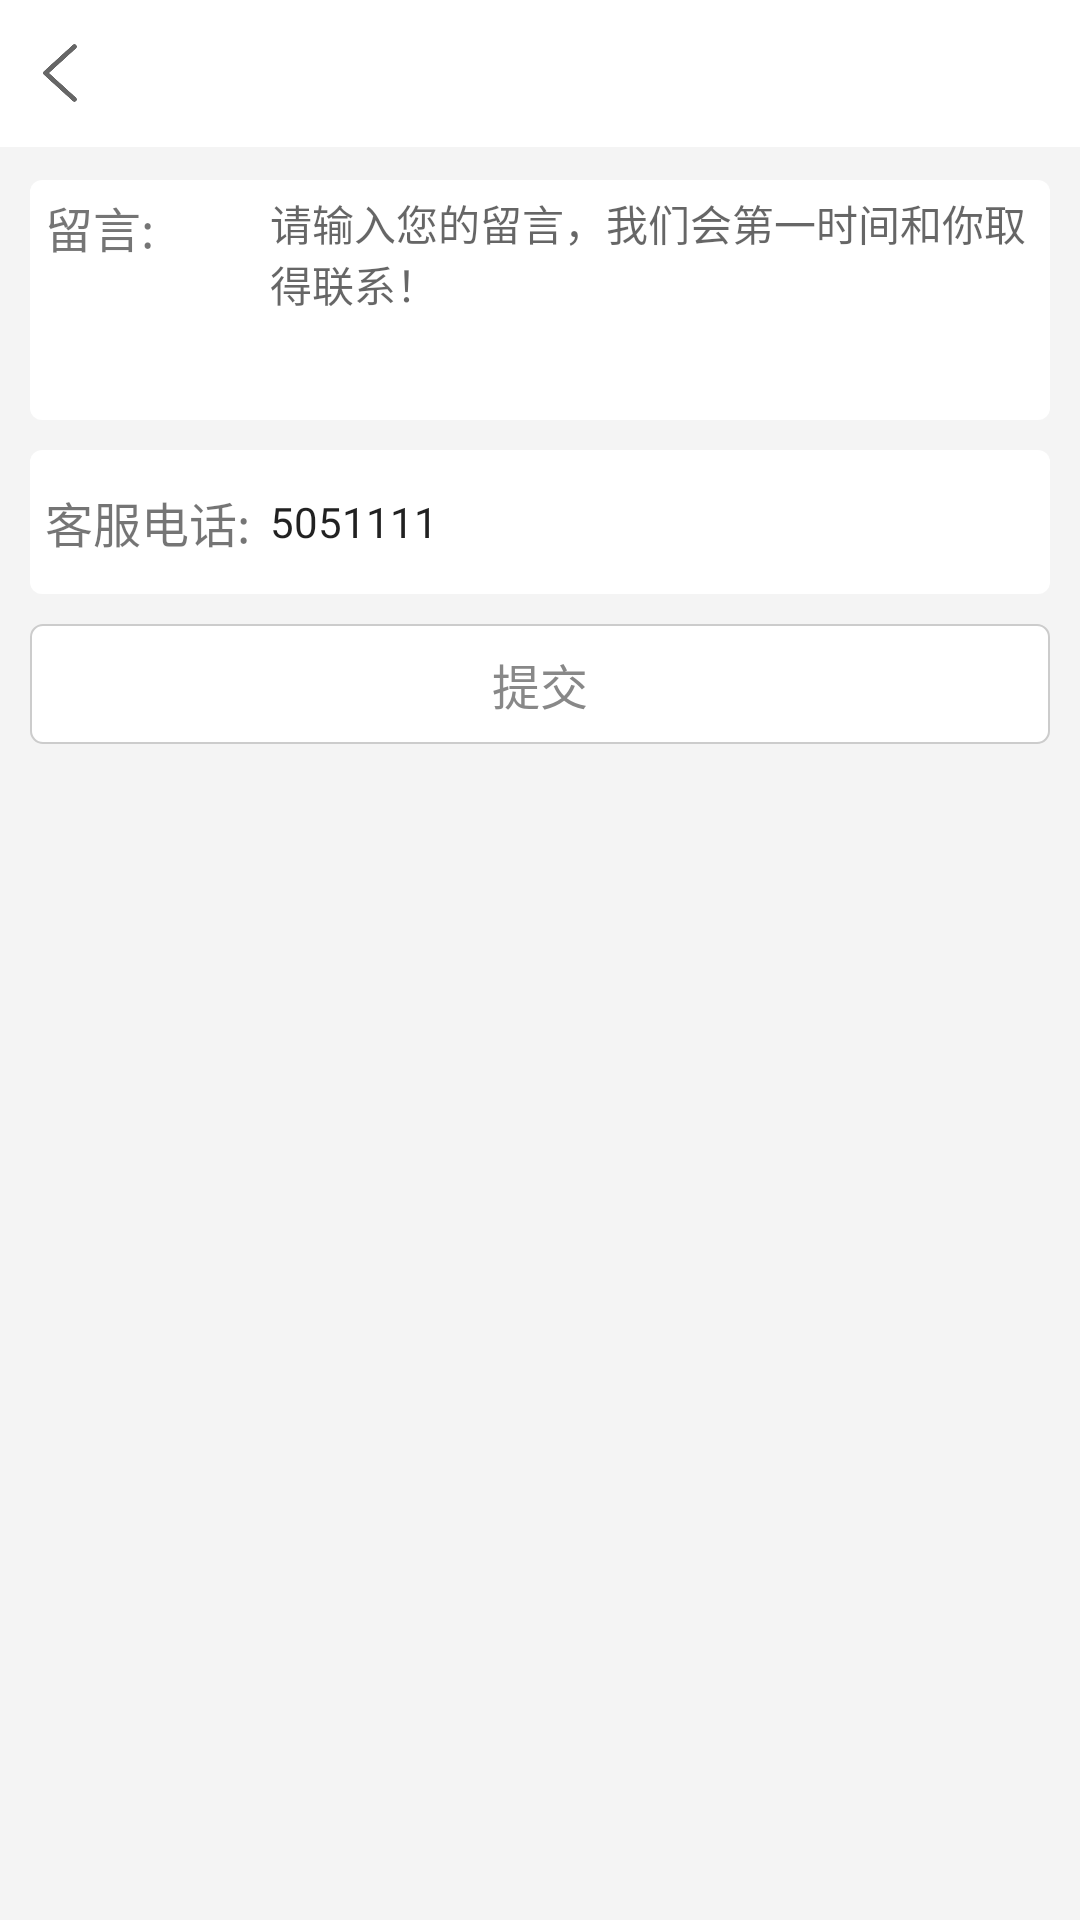

Named icons in this screenshot (1080 × 1920) and their bounding boxes, (x1, y1, x2, y2):
back: (43, 44, 77, 102)
